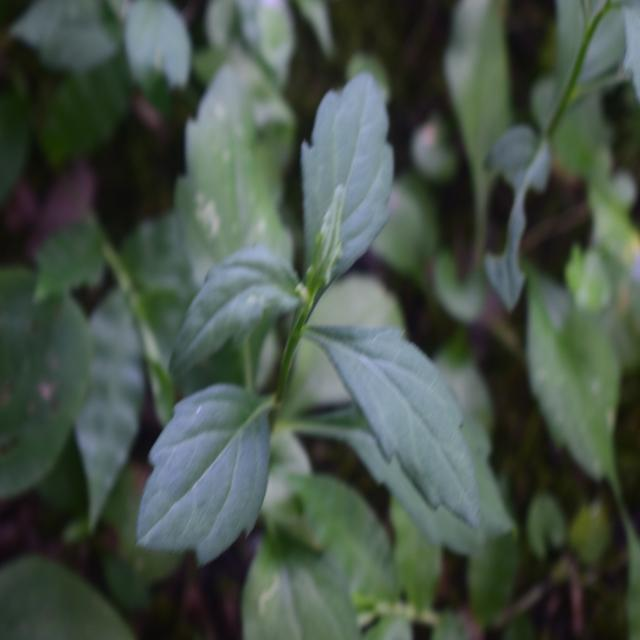Indian aster: (164, 98, 494, 576)
